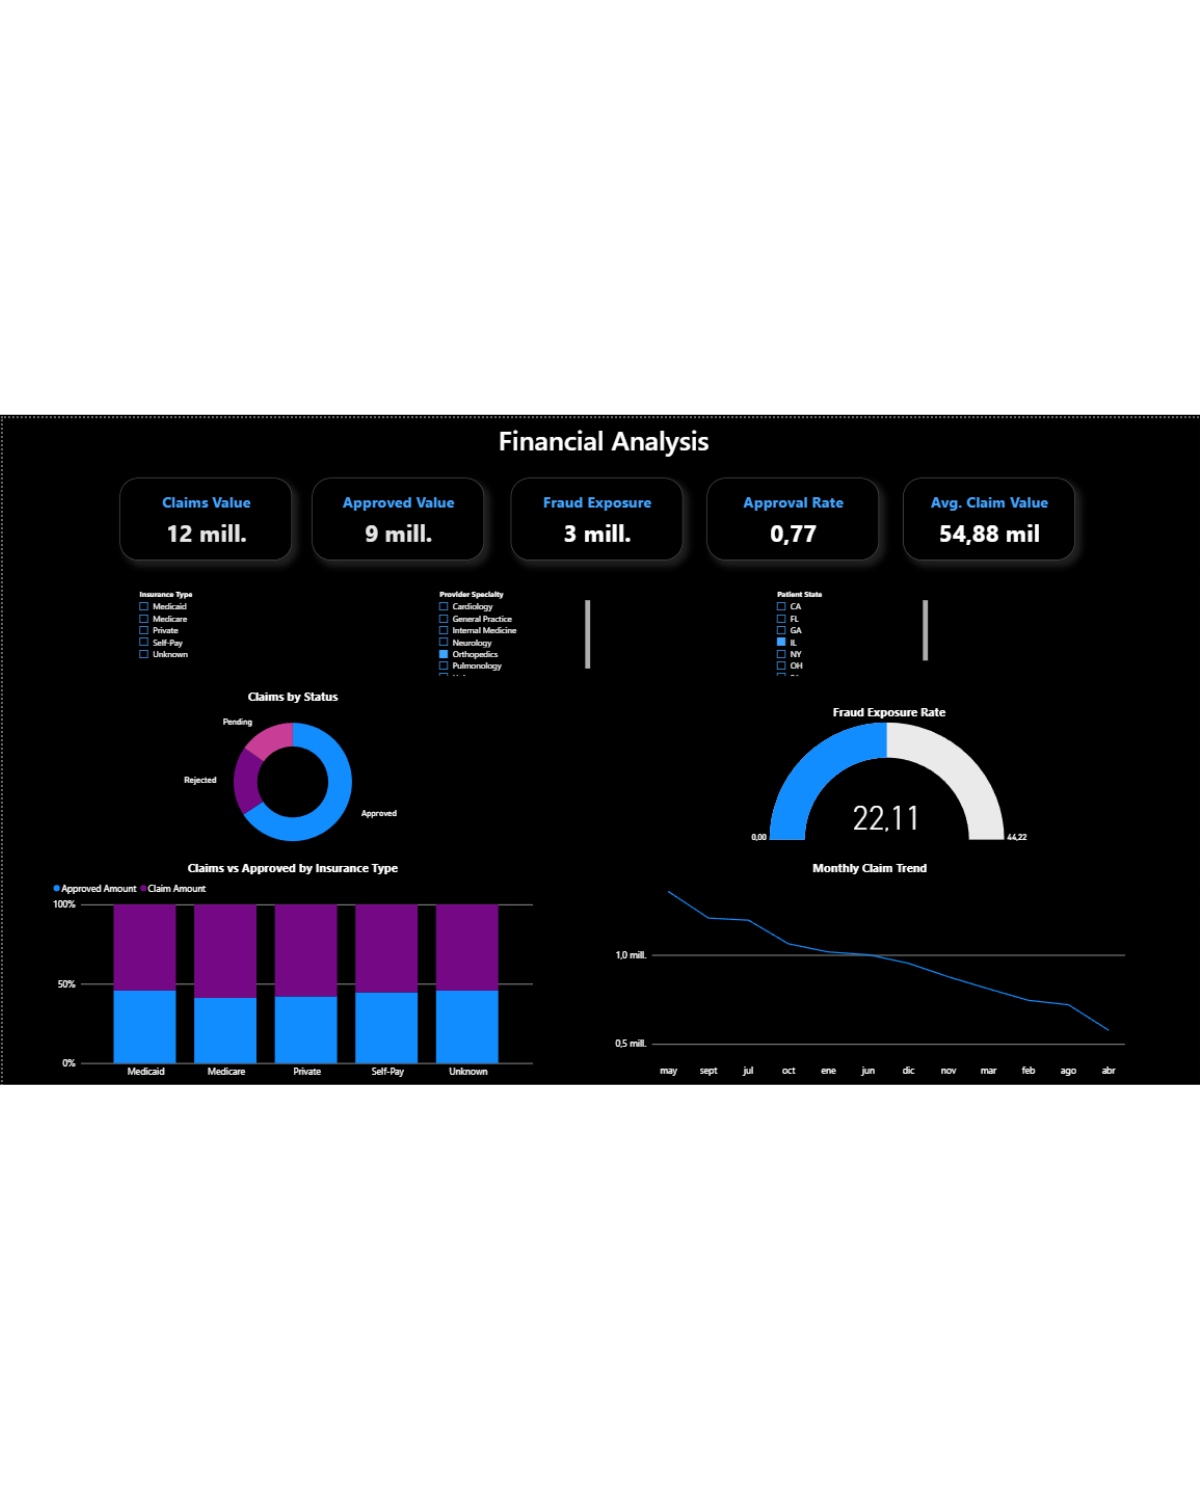

The page's visual inventory and layout, read from the dashboard file:
{"tool":"powerbi","page":{"name":"Financial Analysis","canvas":[1920,1080],"ordinal":3},"visuals":[{"type":"textbox","box":[6.2,0,1914.6,75],"z":0},{"type":"hundredPercentStackedColumnChart","title":"Claims vs Approved by Insurance Type","fields":{"Category":["healthcare_dashboard.Insurance_Type"],"Y":["healthcare_dashboard.Approved Amount","healthcare_dashboard.Claim Amount"]},"box":[76,708,780,360],"z":1000},{"type":"lineChart","title":"Monthly Claim Trend","fields":{"Category":["healthcare_dashboard.Month"],"Y":["healthcare_dashboard.Claim Amount"]},"box":[977.1,708.3,827.1,358.3],"z":2000},{"type":"donutChart","title":"Claims by Status","fields":{"Category":["healthcare_dashboard.Claim_Status"],"Y":["CountNonNull(healthcare_dashboard.Claim_ID)"]},"box":[75,433.3,780,276],"z":3000},{"type":"gauge","title":"Fraud Exposure Rate","fields":{"Y":["healthcare_dashboard.Fraud Exposure %"]},"box":[1089.6,458.3,664,228],"z":4000},{"type":"cardVisual","fields":{"Data":["healthcare_dashboard.Total Claim Amount"]},"box":[188.5,96.2,276,132],"z":5000},{"type":"cardVisual","fields":{"Data":["healthcare_dashboard.Total Approved Amount"]},"box":[496.5,96.2,276,132],"z":6000},{"type":"cardVisual","fields":{"Data":["healthcare_dashboard.Fraud Exposure"]},"box":[814.5,96.2,276,132],"z":7000},{"type":"cardVisual","fields":{"Data":["healthcare_dashboard.Approval Rate"]},"box":[1128.5,96.2,276,132],"z":8000},{"type":"cardVisual","fields":{"Data":["healthcare_dashboard.Average Claim Amount"]},"box":[1444.5,96.2,276,132],"z":9000},{"type":"slicer","fields":{"Values":["healthcare_dashboard.Insurance_Type"]},"box":[206.2,268.8,259.6,150],"z":10000},{"type":"slicer","fields":{"Values":["healthcare_dashboard.Provider_Specialty"]},"box":[687.5,268.8,259.6,150],"z":11000},{"type":"slicer","fields":{"Values":["healthcare_dashboard.Patient_State"]},"box":[1229.2,268.8,259.6,150],"z":12000}]}

Visuals, with their boxes on the page's 1920x1080 design canvas (x1, y1, x2, y2). These are canvas units, not pixel positions in the 1200x1500 screenshot, which may show the page scaled, cropped or inside an application window:
textbox: Rect(6, 0, 1921, 75)
"Claims vs Approved by Insurance Type" hundredPercentStackedColumnChart: Rect(76, 708, 856, 1068)
"Monthly Claim Trend" lineChart: Rect(977, 708, 1804, 1067)
"Claims by Status" donutChart: Rect(75, 433, 855, 709)
"Fraud Exposure Rate" gauge: Rect(1090, 458, 1754, 686)
cardVisual - healthcare_dashboard.Total Claim Amount: Rect(188, 96, 464, 228)
cardVisual - healthcare_dashboard.Total Approved Amount: Rect(496, 96, 772, 228)
cardVisual - healthcare_dashboard.Fraud Exposure: Rect(814, 96, 1090, 228)
cardVisual - healthcare_dashboard.Approval Rate: Rect(1128, 96, 1404, 228)
cardVisual - healthcare_dashboard.Average Claim Amount: Rect(1444, 96, 1720, 228)
slicer - healthcare_dashboard.Insurance_Type: Rect(206, 269, 466, 419)
slicer - healthcare_dashboard.Provider_Specialty: Rect(688, 269, 947, 419)
slicer - healthcare_dashboard.Patient_State: Rect(1229, 269, 1489, 419)
